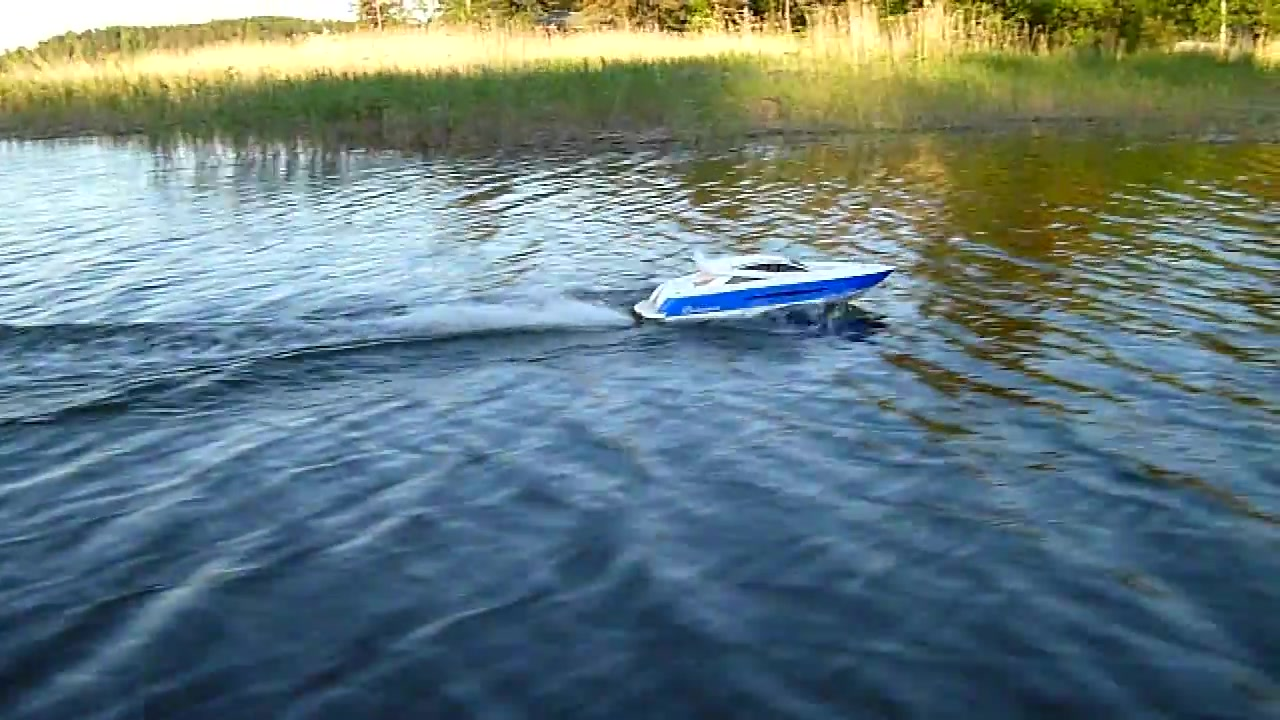boat: (620, 252, 904, 328)
